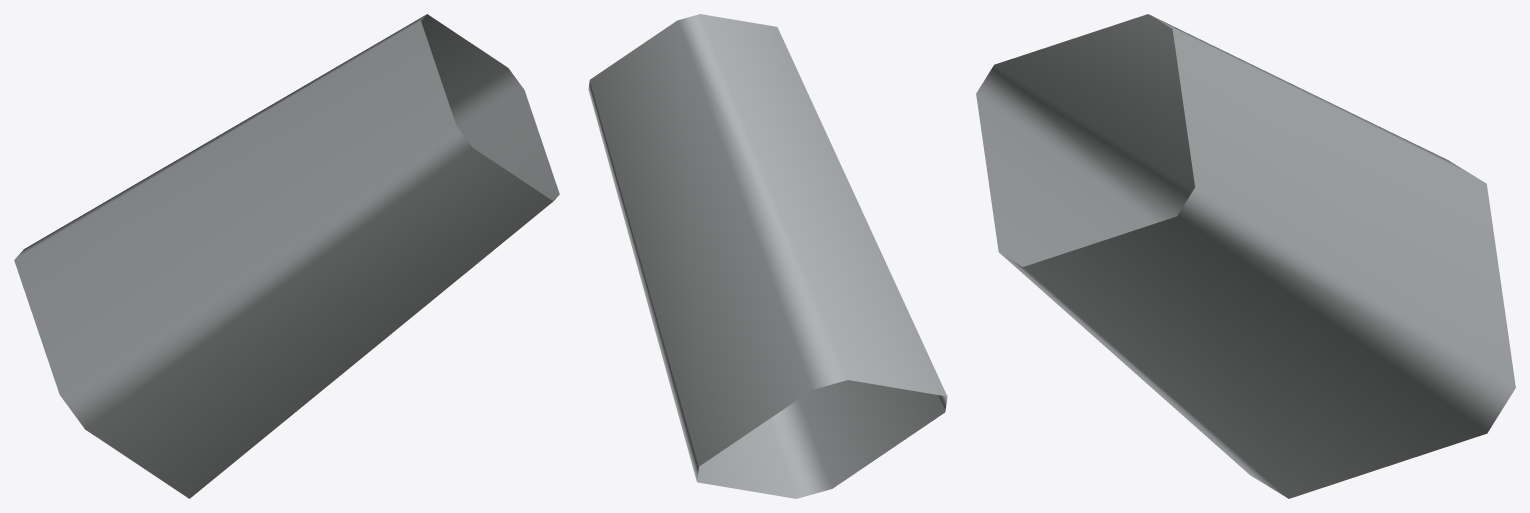
Rendered from Drone_002_L_Finger_001.fbx.
3 renders of one model, left to right at view 1: azimuth 30°, elevation 25°; view 2: azimuth 150°, elevation 25°; view 3: azimuth 270°, elevation 25°, orthographic. The views are drawn at different scales.
Parts seen in each view (by area): view 1: Drone_002_L_Finger_001; view 2: Drone_002_L_Finger_001; view 3: Drone_002_L_Finger_001.
Part boxes in pixels (<box>): Drone_002_L_Finger_001: <box>14,14,559,498</box>; Drone_002_L_Finger_001: <box>588,14,947,498</box>; Drone_002_L_Finger_001: <box>976,14,1515,498</box>.
Bounding box in the file's own units: 3.7 × 3.17 × 3.79.
